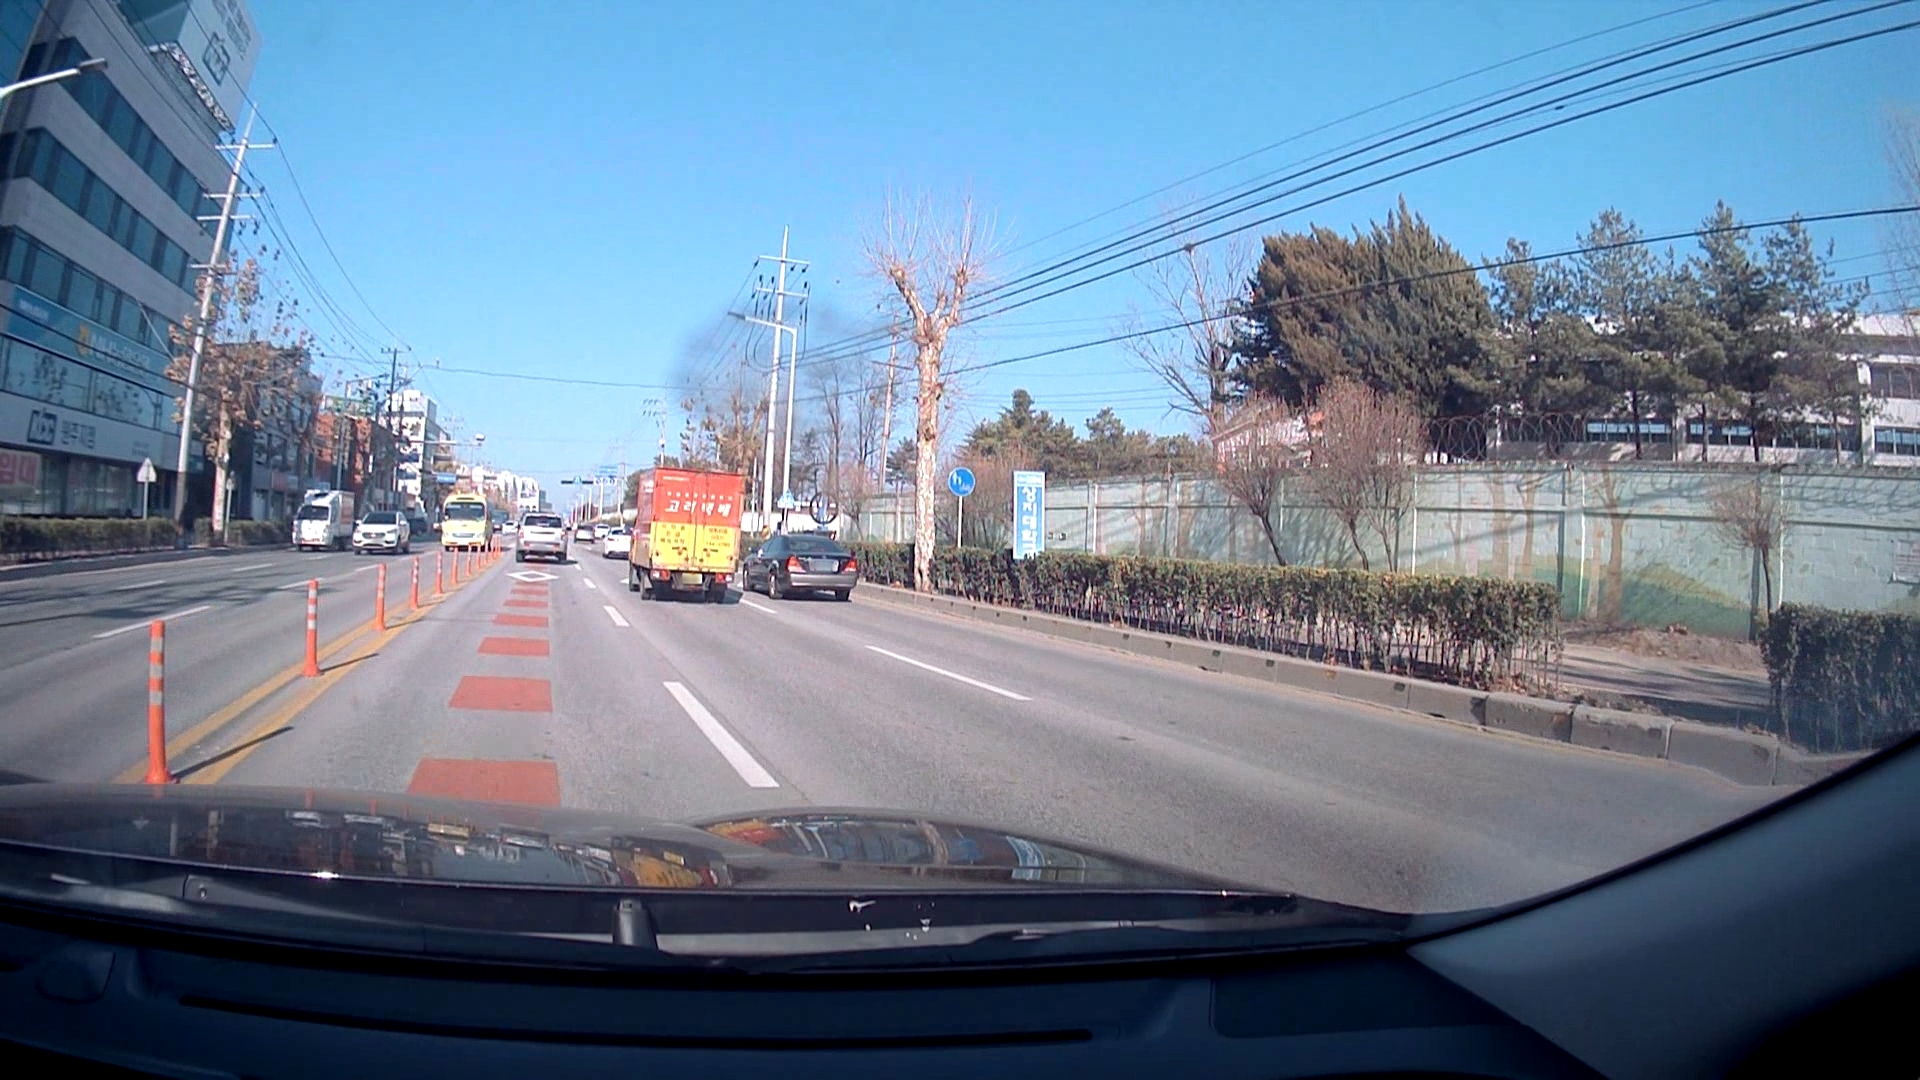trafficLight: (564, 480, 595, 488)
